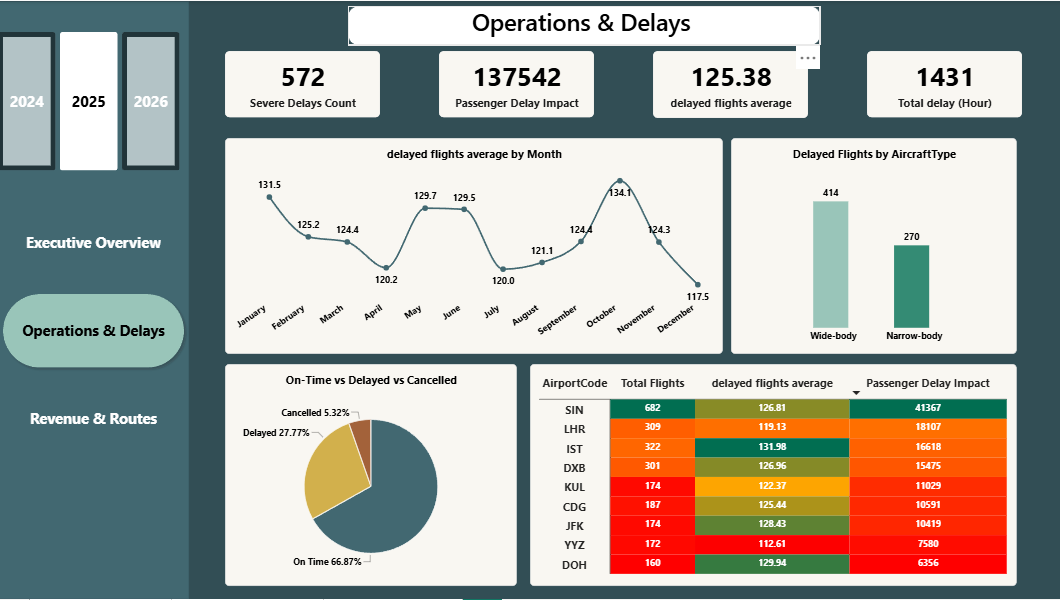

Layout of this report page (visuals, bound fields, positions):
{"tool":"powerbi","page":{"name":"Operations & Delays","canvas":[1920,1080],"ordinal":1},"visuals":[{"type":"shape","box":[0,0,345.5,1080.7],"z":1000},{"type":"advancedSlicerVisual","fields":{"Values":["Date_Table.Year"]},"box":[0,55.4,330,250.2],"z":2000},{"type":"pageNavigator","box":[0,362.1,345.5,469.7],"z":3000},{"type":"shape","box":[632,9.9,853.4,70.9],"z":4000,"group":"g1"},{"type":"cardVisual","fields":{"Data":["_measures .delayed flights average"]},"box":[1183.3,90.6,280,121],"z":4000},{"type":"textbox","box":[746.3,9.9,614.9,70.9],"z":5000,"group":"g1"},{"type":"cardVisual","fields":{"Data":["_measures .Total delay"]},"box":[1570.1,91.1,280,120],"z":5000},{"type":"cardVisual","fields":{"Data":["_measures .Severe Delays Count"]},"box":[409.7,91.1,280,120],"z":6000},{"type":"cardVisual","fields":{"Data":["_measures .delayed %"]},"box":[796.5,91.1,280,120],"z":7000},{"type":"lineChart","title":"Monthly Average Delay Trend","fields":{"Category":["Date_Table.Date.Variation.Date Hierarchy.Month","Date_Table.Date.Variation.Date Hierarchy.Day"],"Y":["_measures .delayed flights average"]},"box":[409.7,248,899.1,389.8],"z":8000},{"type":"pivotTable","fields":{"Rows":["Dim_destination_Airports.AirportCode"],"Values":["_measures .Total Flights","_measures .delayed flights average","_measures .Passenger Delay Impact"]},"box":[961.1,655.5,879.2,400.8],"z":9000},{"type":"columnChart","title":"Delays by Aircraft Fleet Type","fields":{"Category":["Aircraft.AircraftType"],"Y":["_measures .Delayed Flights"]},"box":[1324.3,248,516,389.8],"z":10000},{"type":"pieChart","title":"Overall Operational Status Distribution","fields":{"Y":["_measures .Total Flights"],"Category":["Flights_Raw.Status"]},"box":[409.7,655.5,527.1,400.8],"z":11000},{"type":"group","id":"g1","title":"Group 1","box":[632,9.9,853.4,70.9],"z":12001}]}

Visuals, with their boxes in screenshot pixels (x1, y1, x2, y2), scaled from the page's 1920x1080 canvas onto the 1060x600 screenshot:
shape: bbox(0, 0, 191, 599)
advancedSlicerVisual - Date_Table.Year: bbox(0, 31, 182, 170)
pageNavigator: bbox(0, 201, 191, 462)
shape: bbox(349, 6, 820, 45)
cardVisual - _measures .delayed flights average: bbox(653, 50, 808, 118)
textbox: bbox(412, 6, 751, 45)
cardVisual - _measures .Total delay: bbox(867, 51, 1021, 117)
cardVisual - _measures .Severe Delays Count: bbox(226, 51, 381, 117)
cardVisual - _measures .delayed %: bbox(440, 51, 594, 117)
"Monthly Average Delay Trend" lineChart: bbox(226, 138, 723, 354)
pivotTable - Dim_destination_Airports.AirportCode x _measures .Total Flights: bbox(531, 364, 1016, 587)
"Delays by Aircraft Fleet Type" columnChart: bbox(731, 138, 1016, 354)
"Overall Operational Status Distribution" pieChart: bbox(226, 364, 517, 587)
"Group 1" group: bbox(349, 6, 820, 45)
